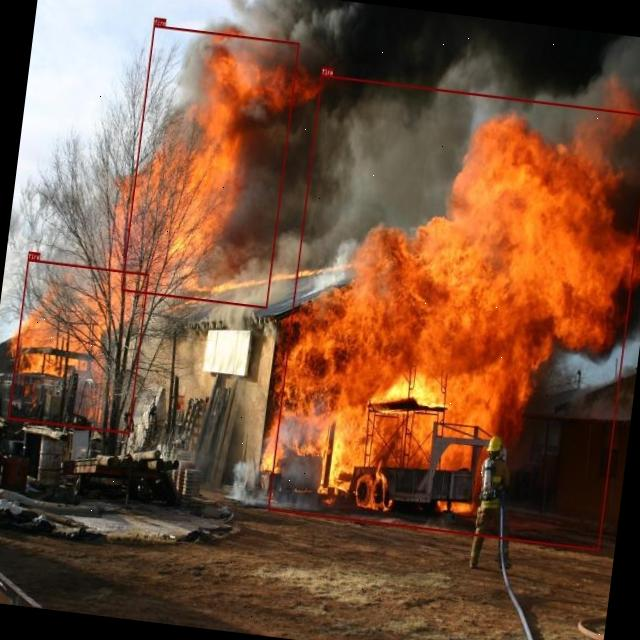fire: (267, 74, 640, 550), (120, 24, 299, 308), (8, 257, 148, 433)
